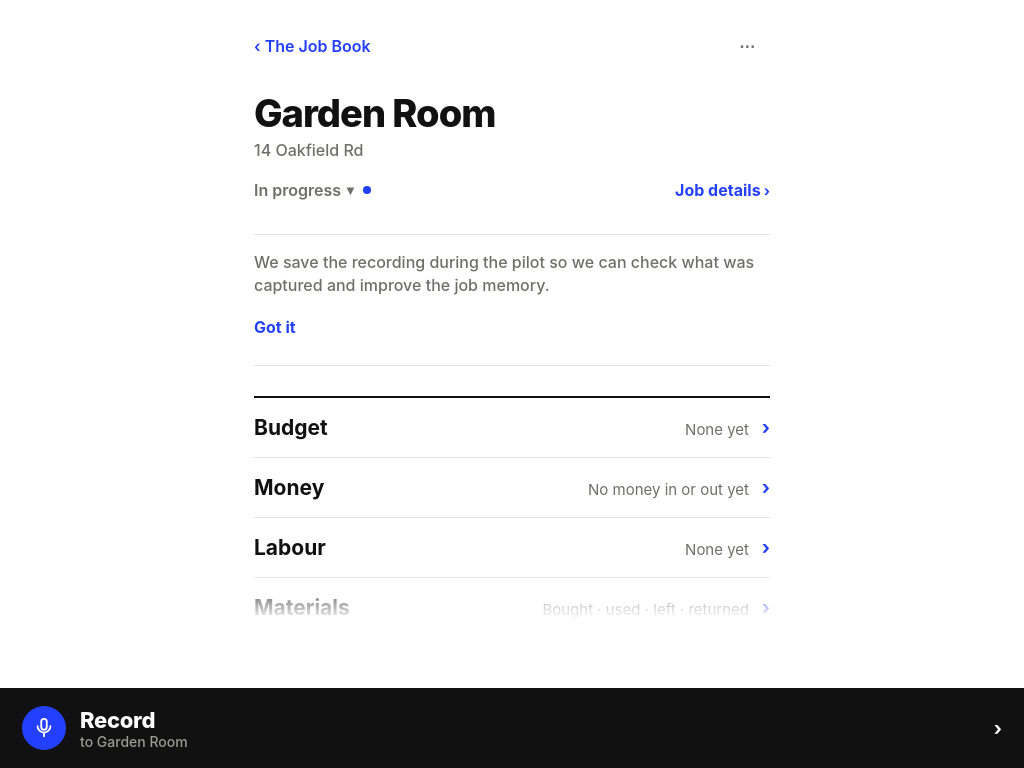
Test: CurrentJobWorkspace — capture › successful upload shows note as voice note saved
The image size is (1024, 768).
Click the button with aria-label "start recording": (44, 728) x1=0 y1=688 x2=1023 y2=767
(page scrolled)
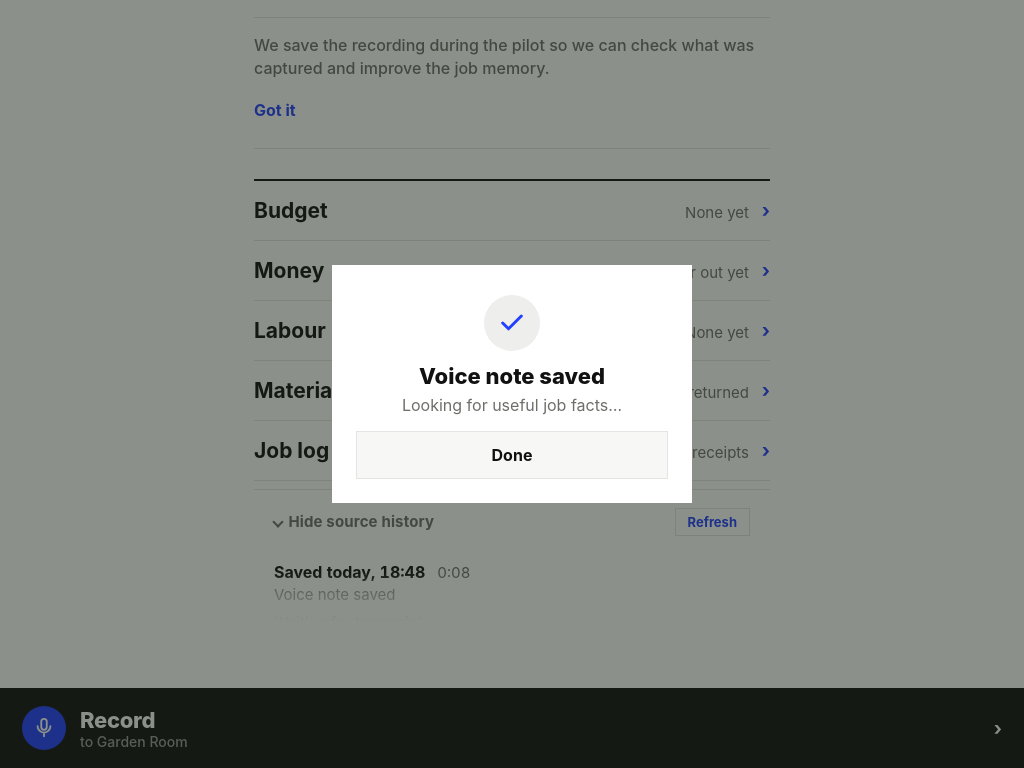
Expected: the text "Voice note saved" below "today, 18:48" is shown, x1=274 y1=585 x2=396 y2=604
